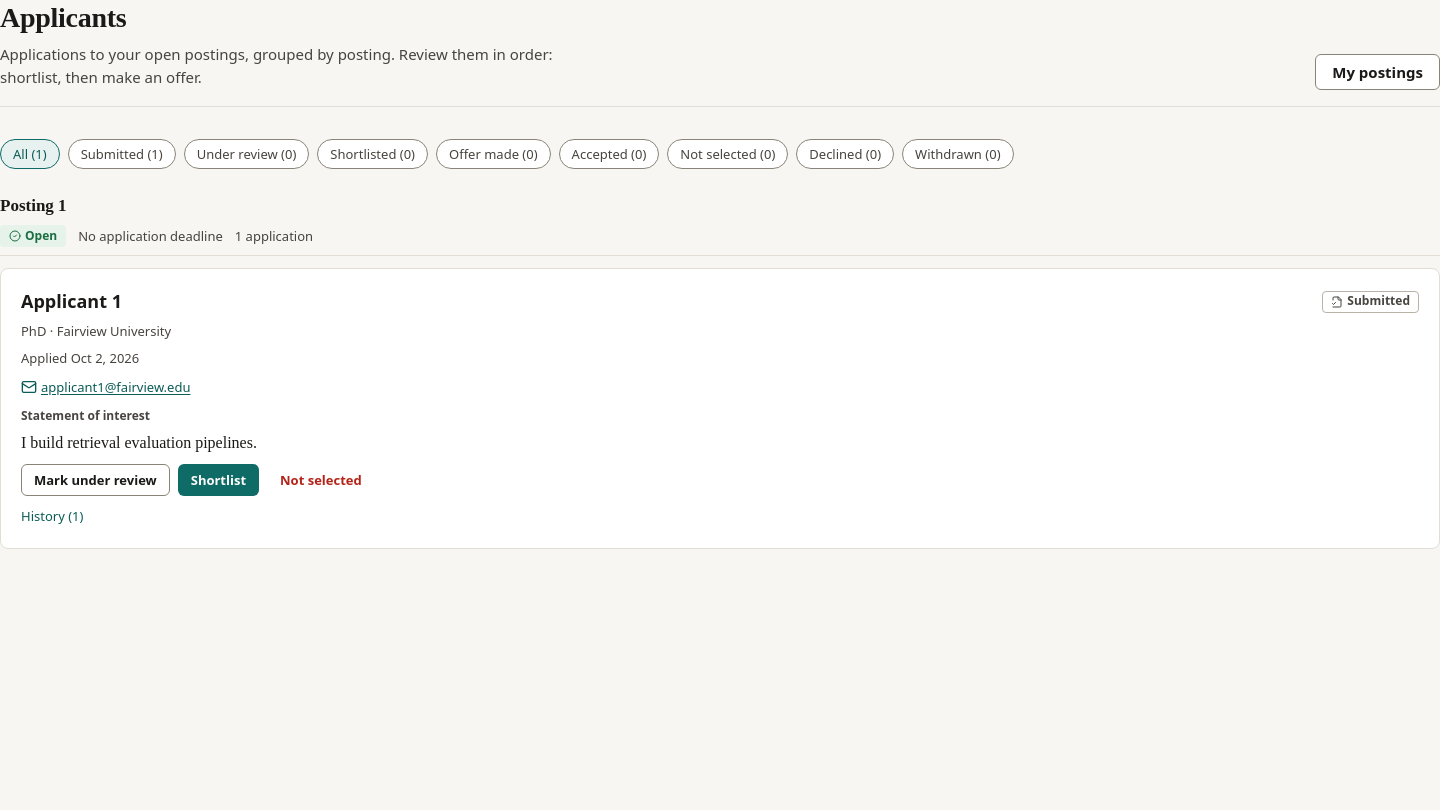
Test: decisions › confirming sends exactly one Not selected, with the message, even when clicked twice
Click the button "Not selected" at point(321, 480), box [267,464,375,496]
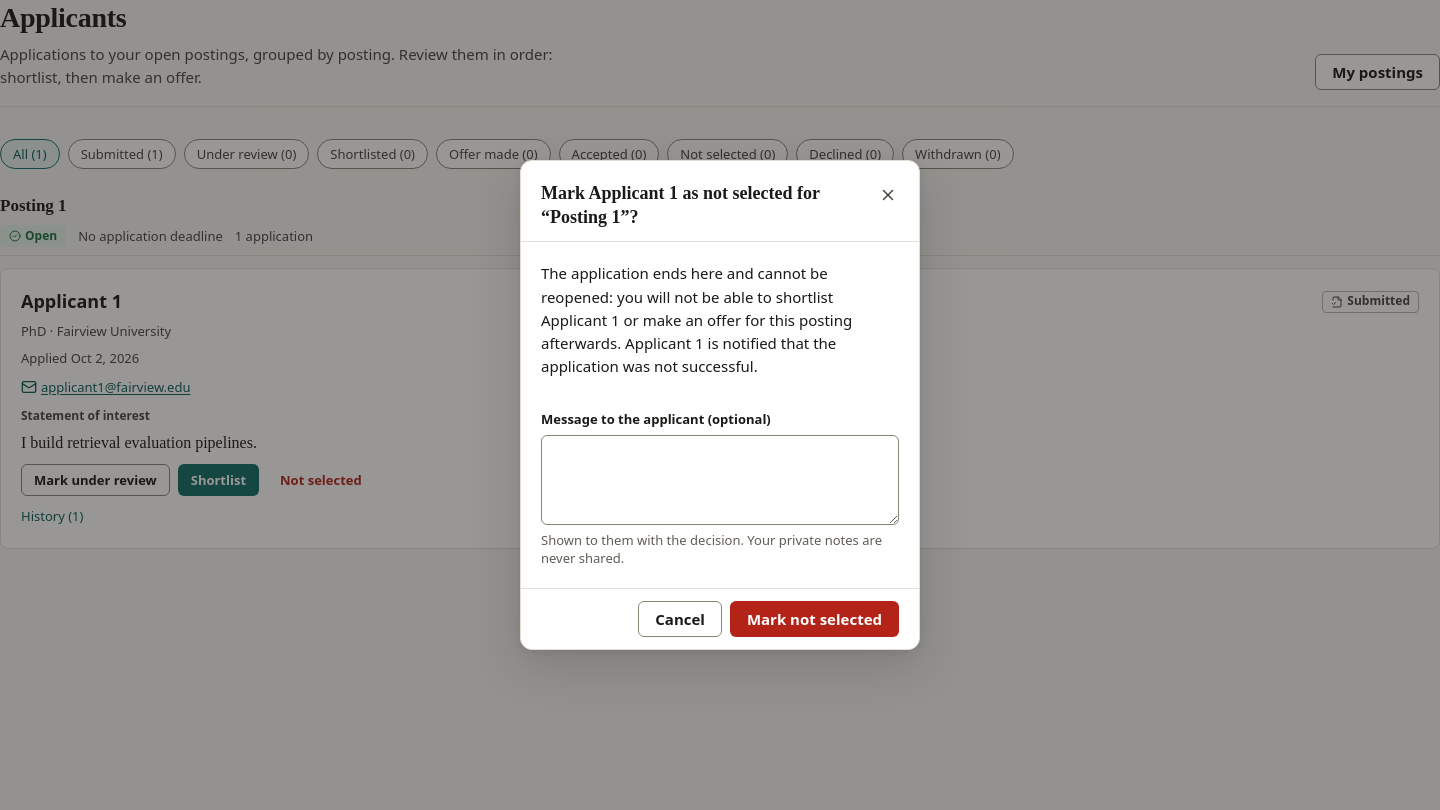
Type "Thank you for applying." into the text box labelled "Message to the applicant (optional)" at point(720, 480), box [541,434,899,524]
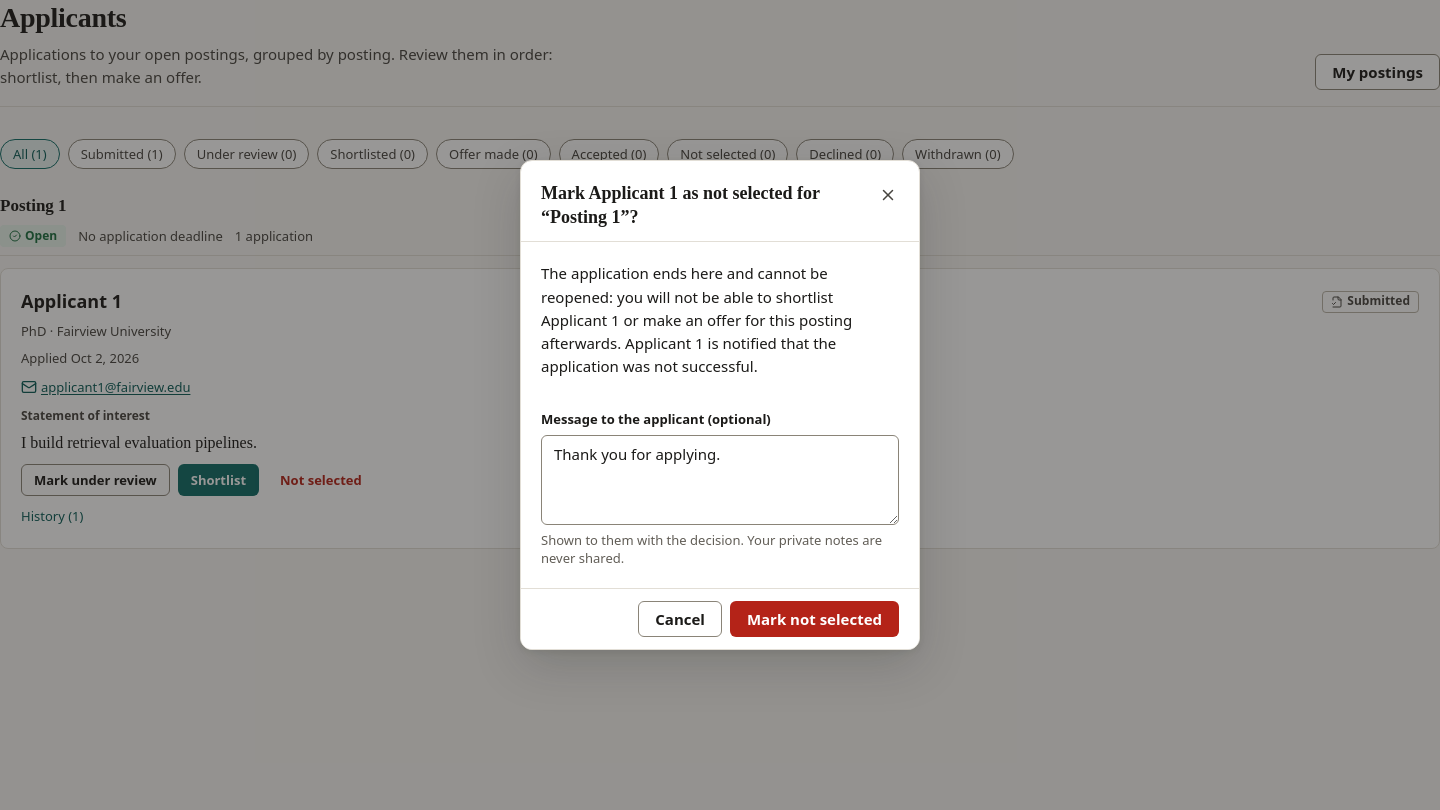
Click the button "Mark not selected" at point(814, 619), box [730,601,899,637]
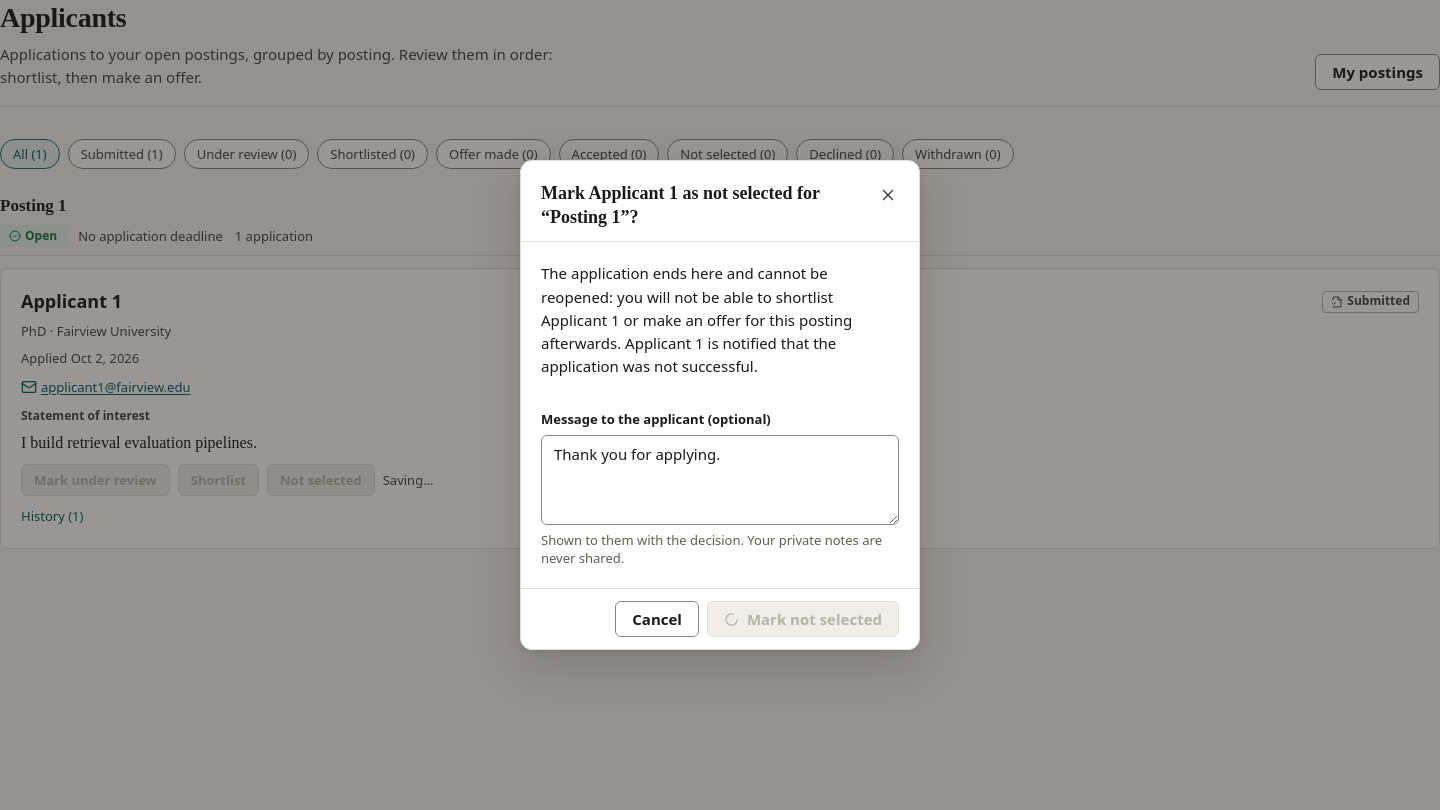
Click the button "Mark not selected" at point(803, 619), box [707,601,899,637]
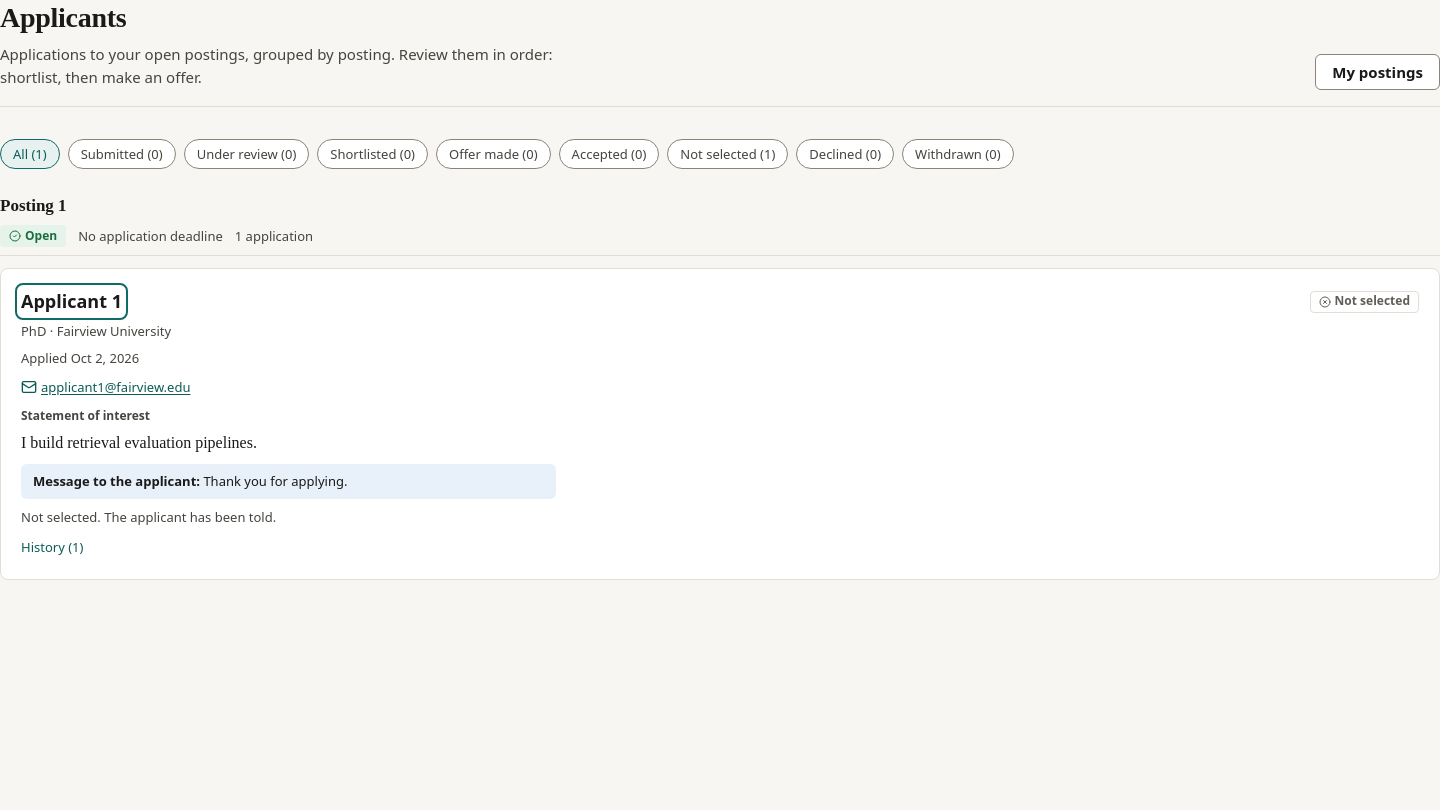
expect the element "Applicant 1" shows "Not selected": met, box [1335,292,1410,310]
expect the dialog is gone: met
